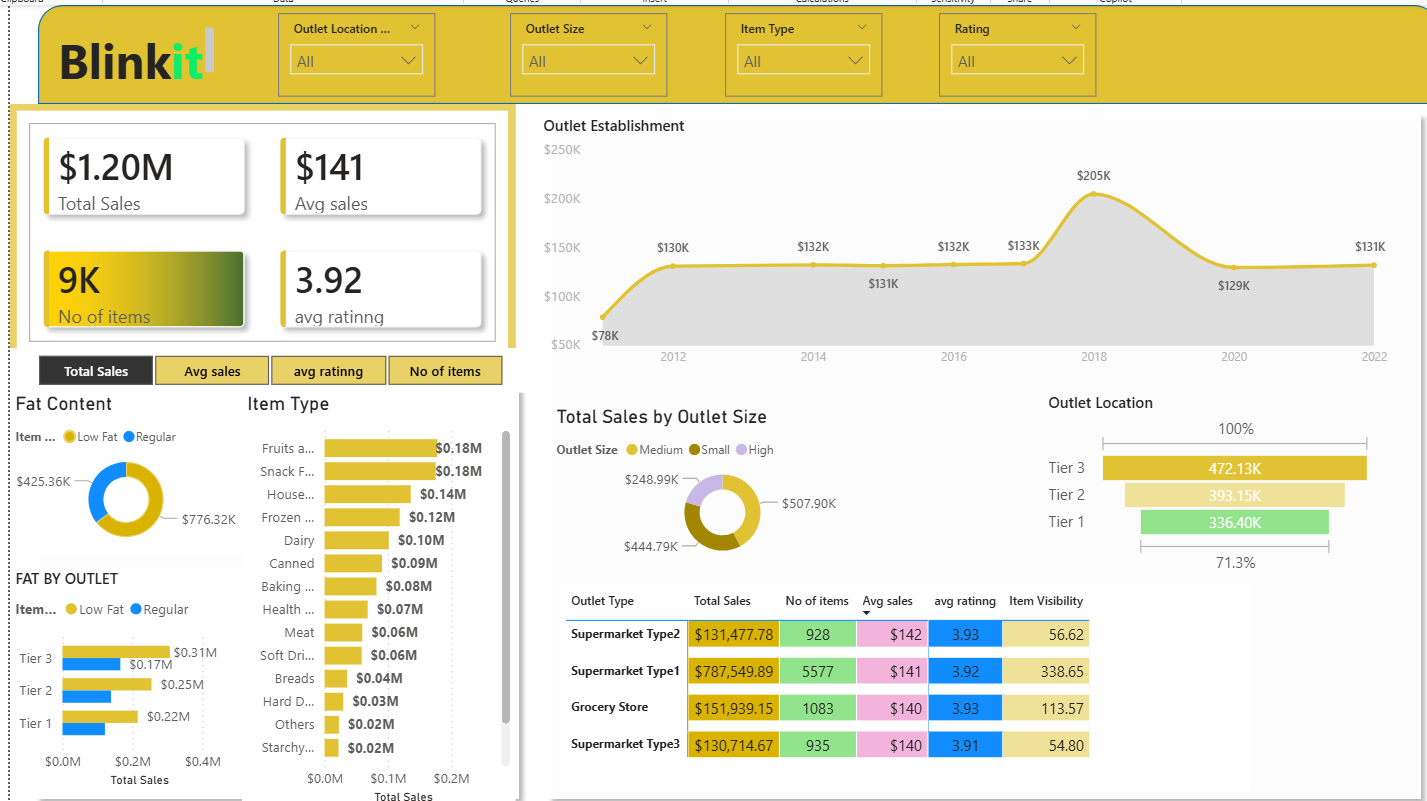

The dashboard page shown, as its layout file describes it:
{"tool":"powerbi","page":{"name":"Page 1","canvas":[1280,720],"ordinal":0},"visuals":[{"type":"shape","box":[25.4,0,1254.6,88.7],"z":0},{"type":"textbox","box":[37.9,15.6,149.8,58.4],"z":1000},{"type":"cardVisual","fields":{"Data":["BlinkIT Grocery Data.Total Sales","BlinkIT Grocery Data.Avg sales","BlinkIT Grocery Data.No of items","BlinkIT Grocery Data.avg ratinng"]},"box":[0,88.7,453.1,230.1],"z":2000},{"type":"shape","box":[14.3,307.2,450.4,412.8],"z":3000},{"type":"slicer","fields":{"Values":["Metrics.Metrics"]},"box":[0,307.2,464.8,40.3],"z":4000},{"type":"donutChart","title":"Fat Content","fields":{"Y":["BlinkIT Grocery Data.Total Sales"],"Category":["BlinkIT Grocery Data.Item Fat Content"]},"box":[0,346.6,207.8,144.2],"z":5000},{"type":"clusteredBarChart","title":"FAT BY OUTLET","fields":{"Y":["BlinkIT Grocery Data.Total Sales"],"Category":["BlinkIT Grocery Data.Outlet Location Type"],"Series":["BlinkIT Grocery Data.Item Fat Content"]},"box":[0,504.2,207.8,200.6],"z":6000},{"type":"barChart","title":"Item Type","fields":{"Y":["BlinkIT Grocery Data.Total Sales"],"Category":["BlinkIT Grocery Data.Item Type"]},"box":[207.8,346.6,245.4,373.4],"z":7000},{"type":"shape","box":[472.8,88.7,799.7,631.3],"z":8000},{"type":"lineChart","title":"Outlet Establishment ","fields":{"Y":["BlinkIT Grocery Data.Total Sales"],"Category":["BlinkIT Grocery Data.Outlet Establishment Year"]},"box":[472.8,98.5,765.7,234.6],"z":9000},{"type":"donutChart","fields":{"Y":["BlinkIT Grocery Data.Total Sales"],"Category":["BlinkIT Grocery Data.Outlet Size"]},"box":[484.5,358.2,307.2,144.2],"z":10000},{"type":"funnel","title":" Outlet Location ","fields":{"Y":["Sum(BlinkIT Grocery Data.Sales)"],"Category":["BlinkIT Grocery Data.Outlet Location Type"]},"box":[925.1,346.6,300,167.5],"z":11000},{"type":"pivotTable","fields":{"Rows":["BlinkIT Grocery Data.Outlet Type"],"Values":["BlinkIT Grocery Data.Total Sales","BlinkIT Grocery Data.No of items","BlinkIT Grocery Data.Avg sales","BlinkIT Grocery Data.avg ratinng","Sum(BlinkIT Grocery Data.Item Visibility)"]},"box":[492.5,517.6,618.8,187.2],"z":12000},{"type":"slicer","fields":{"Values":["BlinkIT Grocery Data.Outlet Location Type"]},"box":[240,7.2,140.6,75.2],"z":12001},{"type":"slicer","fields":{"Values":["BlinkIT Grocery Data.Outlet Size"]},"box":[447.8,7.2,140.6,75.2],"z":12002},{"type":"slicer","fields":{"Values":["BlinkIT Grocery Data.Item Type"]},"box":[640.3,7.2,140.6,75.2],"z":12003},{"type":"slicer","fields":{"Values":["BlinkIT Grocery Data.Rating"]},"box":[831.9,7.2,140.6,75.2],"z":12004}]}

Visuals, with their boxes on the page's 1280x720 design canvas (x1, y1, x2, y2). These are canvas units, not pixel positions in the 1427x801 screenshot, which may show the page scaled, cropped or inside an application window:
shape: BBox(25, 0, 1280, 89)
textbox: BBox(38, 16, 188, 74)
cardVisual - BlinkIT Grocery Data.Total Sales x BlinkIT Grocery Data.Avg sales: BBox(0, 89, 453, 319)
shape: BBox(14, 307, 465, 720)
slicer - Metrics.Metrics: BBox(0, 307, 465, 348)
"Fat Content" donutChart: BBox(0, 347, 208, 491)
"FAT BY OUTLET" clusteredBarChart: BBox(0, 504, 208, 705)
"Item Type" barChart: BBox(208, 347, 453, 720)
shape: BBox(473, 89, 1272, 720)
"Outlet Establishment " lineChart: BBox(473, 98, 1238, 333)
donutChart - BlinkIT Grocery Data.Total Sales x BlinkIT Grocery Data.Outlet Size: BBox(484, 358, 792, 502)
" Outlet Location " funnel: BBox(925, 347, 1225, 514)
pivotTable - BlinkIT Grocery Data.Outlet Type x BlinkIT Grocery Data.Total Sales: BBox(492, 518, 1111, 705)
slicer - BlinkIT Grocery Data.Outlet Location Type: BBox(240, 7, 381, 82)
slicer - BlinkIT Grocery Data.Outlet Size: BBox(448, 7, 588, 82)
slicer - BlinkIT Grocery Data.Item Type: BBox(640, 7, 781, 82)
slicer - BlinkIT Grocery Data.Rating: BBox(832, 7, 972, 82)
